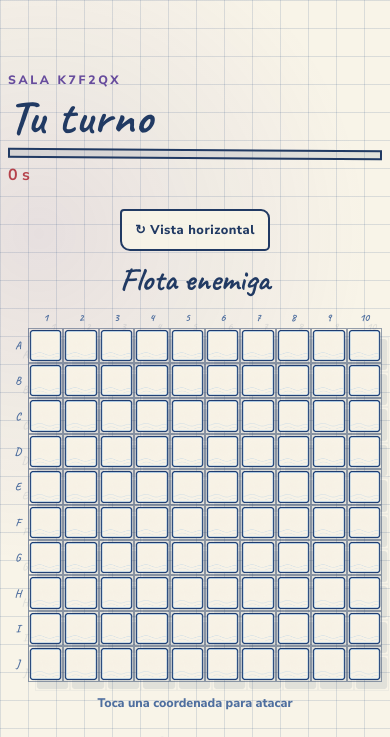
it: BattleScreen › requests fullscreen landscape mode from the rotation control
The width and height of the screenshot is (390, 737).
Click the button with aria-label "Activar vista horizontal".
click(195, 230)  # box x1=120 y1=209 x2=270 y2=251
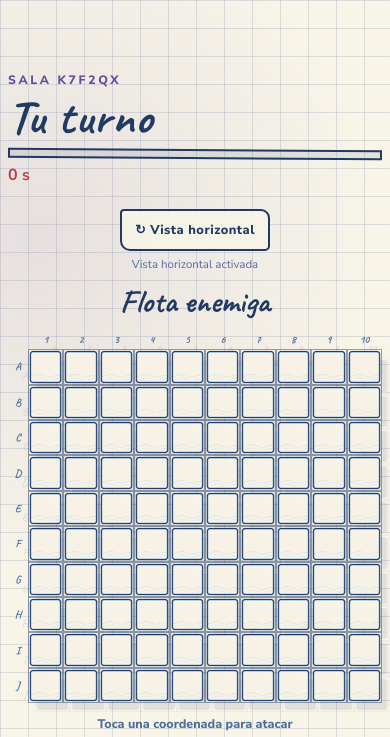
Result: the text "Vista horizontal activada" is shown at x1=132 y1=256 x2=258 y2=272
